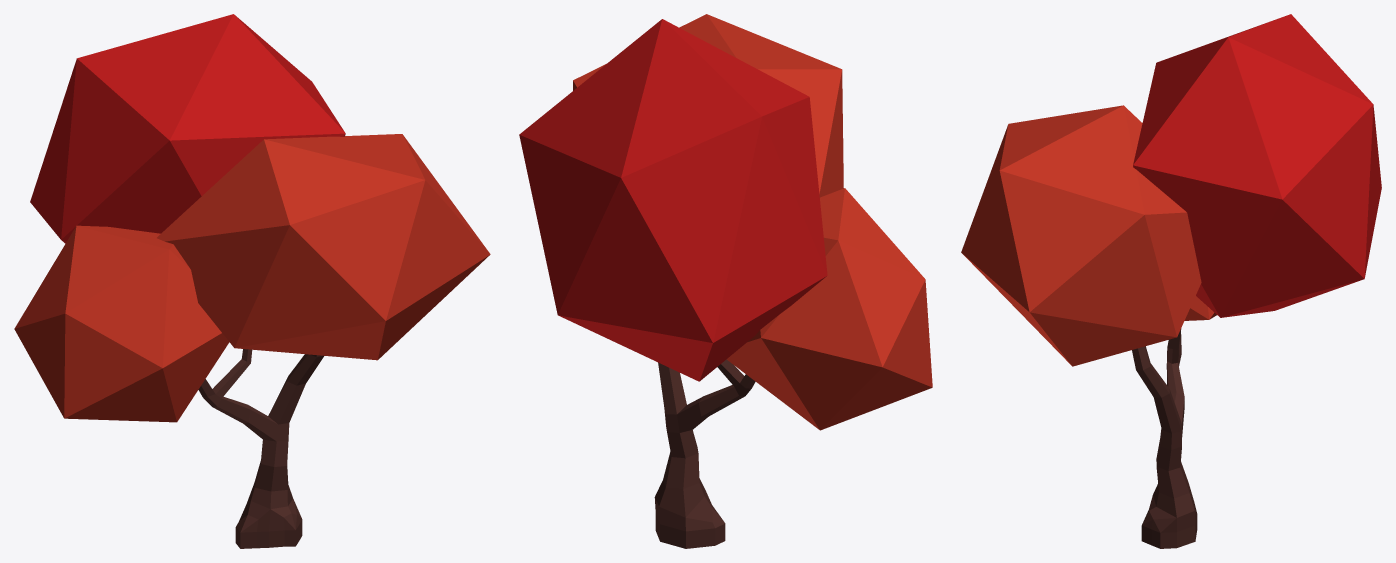
The model's file is tree_1.fbx.
3 renders of one model, left to right at view 1: azimuth 30°, elevation 25°; view 2: azimuth 150°, elevation 25°; view 3: azimuth 270°, elevation 25°, orthographic. The views are drawn at different scales.
Parts seen in each view (by area): view 1: tree_1; view 2: tree_1; view 3: tree_1.
Part boxes in pixels (box(x1,y1,x2,y2)): tree_1: box(14, 14, 490, 548); tree_1: box(519, 14, 932, 548); tree_1: box(961, 14, 1381, 548).
Bounding box in the file's own units: 590 × 773 × 595.
